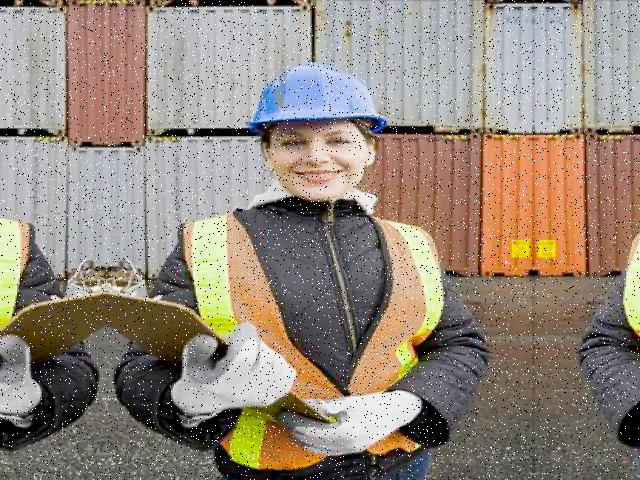Helmet: (241, 57, 394, 150)
